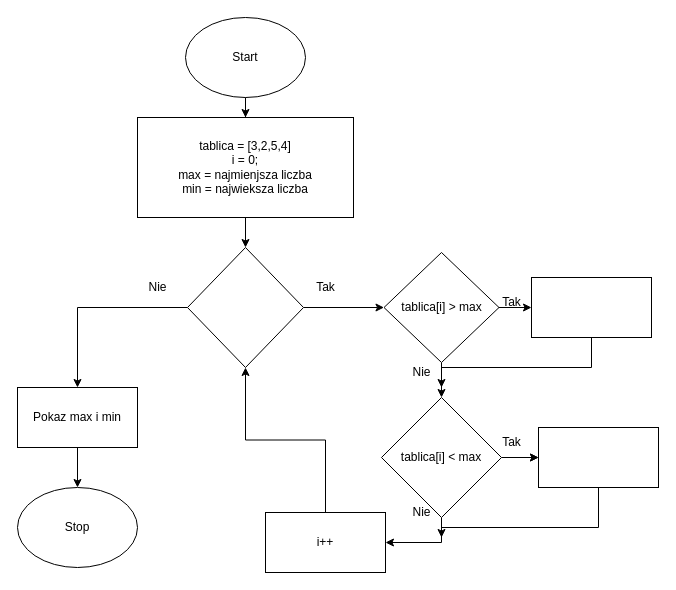
Image size: 676x590. Some labels were removed from this diagram. The centre of each missing label's shape, as x and y in pixels:
i < tablica dlugosc: point 245,307
max = tablica[i]: point 591,307
min = tablica[i]: point 598,457
